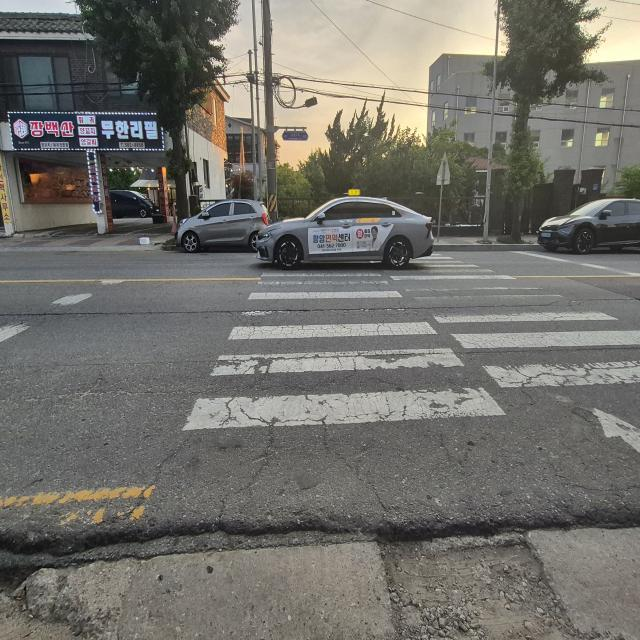car: (261, 194, 415, 268), (534, 196, 640, 254), (174, 198, 274, 254), (109, 190, 160, 219)
